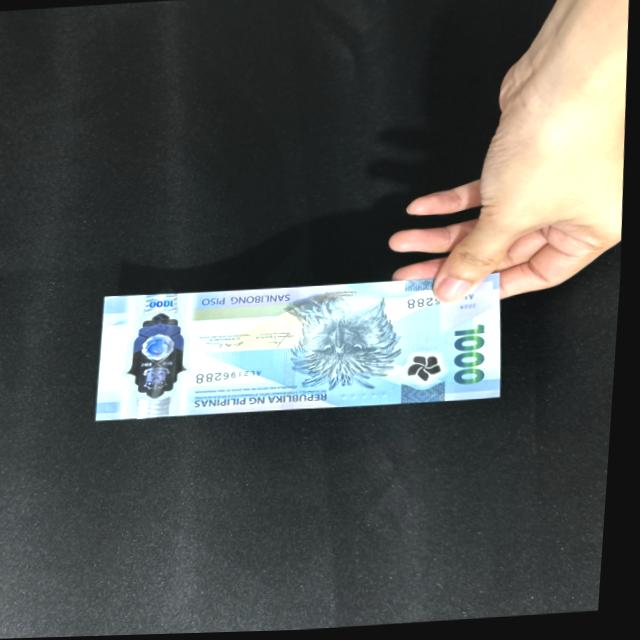clear_window: (130, 310, 192, 401)
eagle: (288, 288, 412, 393)
sampaguita: (411, 356, 453, 385)
serial_number: (195, 362, 273, 392)
